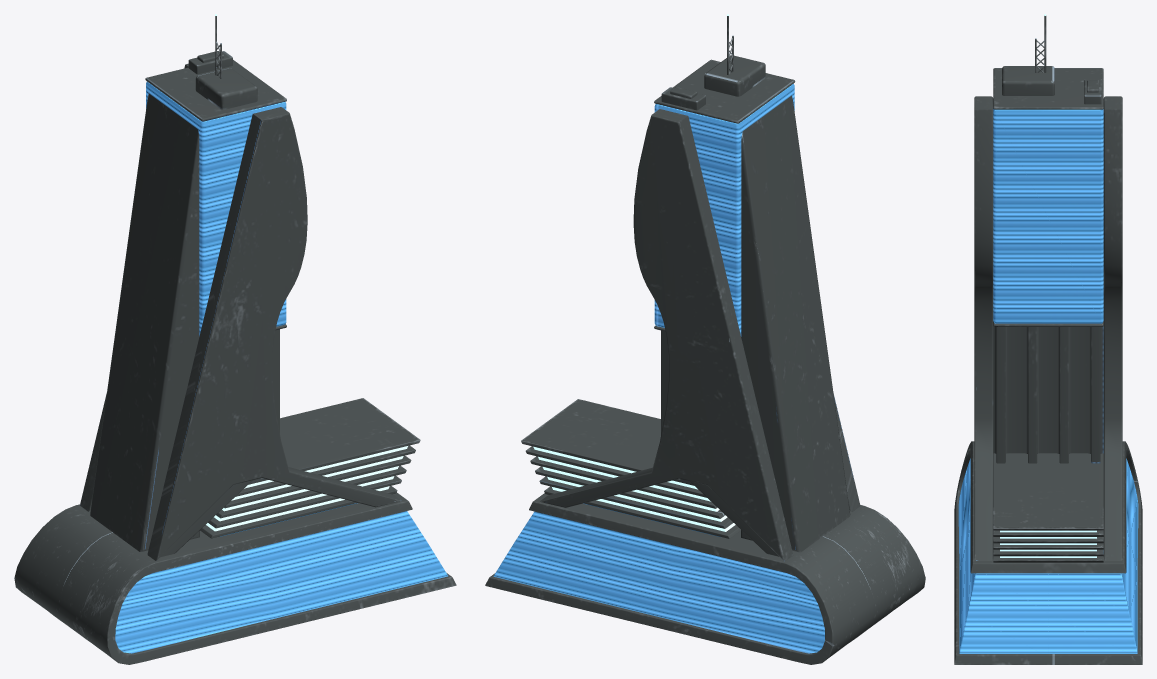
The model's file is sci-fi_building_3.glb.
3 views of the same model, side by side, from view 1: azimuth 30°, elevation 25°; view 2: azimuth 150°, elevation 25°; view 3: azimuth 270°, elevation 25° (orthographic). The views are drawn at different scales.
Parts seen in each view (by area): view 1: Sci_fi_building; view 2: Sci_fi_building; view 3: Sci_fi_building.
Boxes of the visible parts, box(x1,y1,x2,y2) form: Sci_fi_building: box(14, 14, 456, 664); Sci_fi_building: box(485, 14, 925, 664); Sci_fi_building: box(954, 14, 1142, 664).
Size of the model in its own units: 122 by 196 by 59.7.
Materials: 1 (1 with a texture image).
